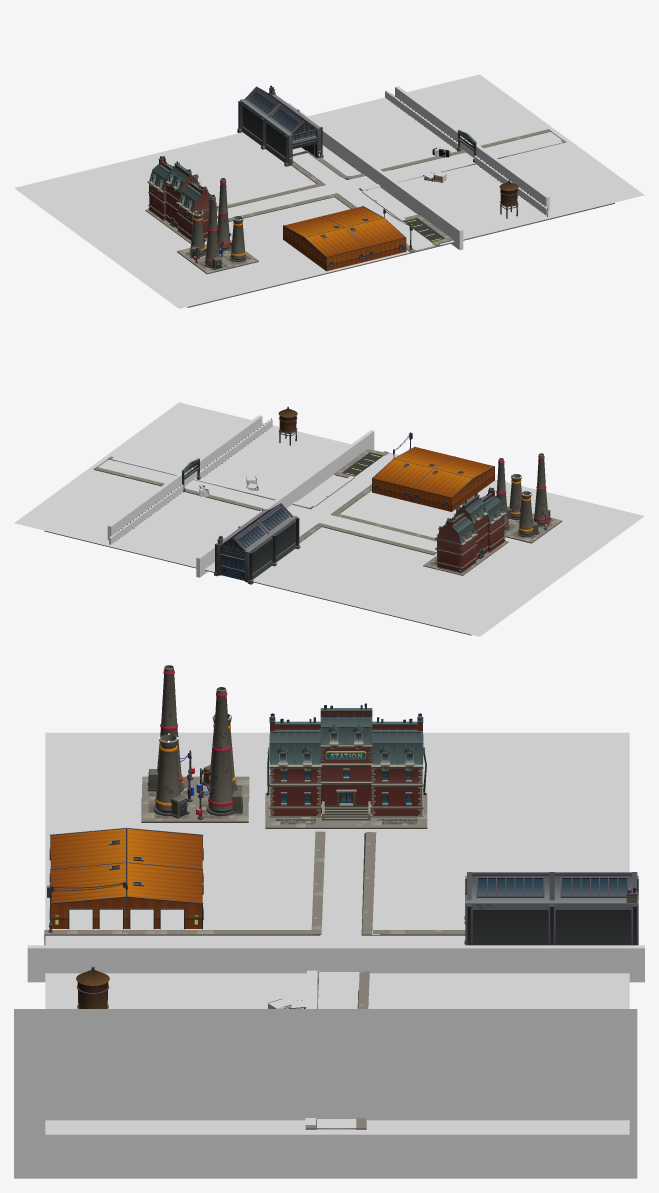
File: factory.glb
3 renders of one model, top to bottom at view 1: azimuth 30°, elevation 25°; view 2: azimuth 150°, elevation 25°; view 3: azimuth 270°, elevation 25°, orthographic. The views are drawn at different scales.
Parts seen in each view (by area): view 1: pavement_impostor_plane, Warehouse_2AZ1, Warehouse_2Z1, gallery, Road_1A_+4, Zone2, Zone1, road_impostor_plane.004, Chimney_1A.001, road_impostor_plane.003, Chimney_1B, road_impostor_plane.001 (+9 smaller); view 2: pavement_impostor_plane, Warehouse_2AZ1, Warehouse_2Z1, gallery, Road_1A_+4, Zone2, Zone1, road_impostor_plane.004, road_impostor_plane.003, Chimney_1A.001, Chimney_1B.001, road_impostor_plane.001 (+9 smaller); view 3: limit_impostor_plane, pavement_impostor_plane, gallery, Zone2, Warehouse_2AZ1, Warehouse_2Z1, Road_1A_+4, road_impostor_plane.004, road_impostor_plane.003, Chimney_1A, Chimney_1B, Chimney_1A.001 (+4 smaller).
Part boxes in pixels (x1,y1,x2,y2): pavement_impostor_plane: [14, 74, 644, 308]; Warehouse_2AZ1: [283, 206, 412, 271]; Warehouse_2Z1: [237, 85, 323, 166]; gallery: [145, 156, 218, 243]; Road_1A_+4: [217, 129, 565, 252]; Zone2: [287, 102, 463, 249]; Zone1: [395, 86, 549, 210]; road_impostor_plane.004: [292, 153, 434, 250]; Chimney_1A.001: [192, 195, 232, 274]; road_impostor_plane.003: [217, 186, 329, 221]; Chimney_1B: [219, 216, 258, 268]; road_impostor_plane.001: [391, 152, 473, 177]; pavement_impostor_plane: [14, 402, 644, 636]; Warehouse_2AZ1: [372, 432, 494, 511]; Warehouse_2Z1: [214, 503, 300, 584]; gallery: [423, 487, 508, 575]; Road_1A_+4: [93, 449, 436, 555]; Zone2: [196, 430, 374, 577]; Zone1: [107, 415, 262, 540]; road_impostor_plane.004: [299, 453, 398, 536]; road_impostor_plane.003: [327, 516, 436, 552]; Chimney_1A.001: [532, 453, 562, 531]; Chimney_1B.001: [505, 491, 547, 543]; road_impostor_plane.001: [184, 480, 267, 506]; limit_impostor_plane: [14, 1009, 637, 1178]; pavement_impostor_plane: [45, 732, 629, 1134]; gallery: [265, 703, 427, 828]; Zone2: [27, 945, 644, 982]; Warehouse_2AZ1: [47, 827, 203, 932]; Warehouse_2Z1: [464, 872, 638, 945]; Road_1A_+4: [44, 831, 465, 1129]; road_impostor_plane.004: [45, 935, 465, 945]; road_impostor_plane.003: [322, 831, 364, 928]; Chimney_1A: [194, 687, 248, 822]; Chimney_1B: [141, 734, 195, 822]; Chimney_1A.001: [142, 665, 196, 799].
Size of the model in its own units: 188 by 39.93 by 125.
25 materials, 23 textured.
